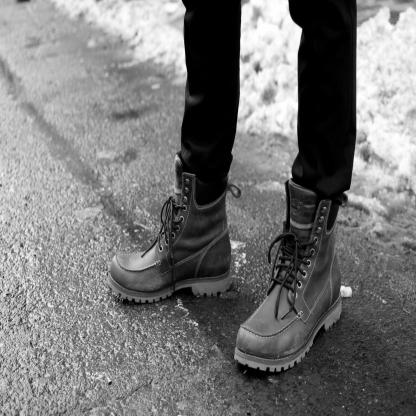ankle: (196, 231, 200, 238), (322, 262, 325, 269)
heel: (227, 279, 231, 286), (339, 307, 342, 312)
left_foot: (236, 250, 343, 374)
pinky: (263, 344, 267, 351), (117, 255, 120, 259)
right_foot: (108, 194, 233, 304)
toe: (116, 270, 120, 276), (242, 329, 246, 335)
